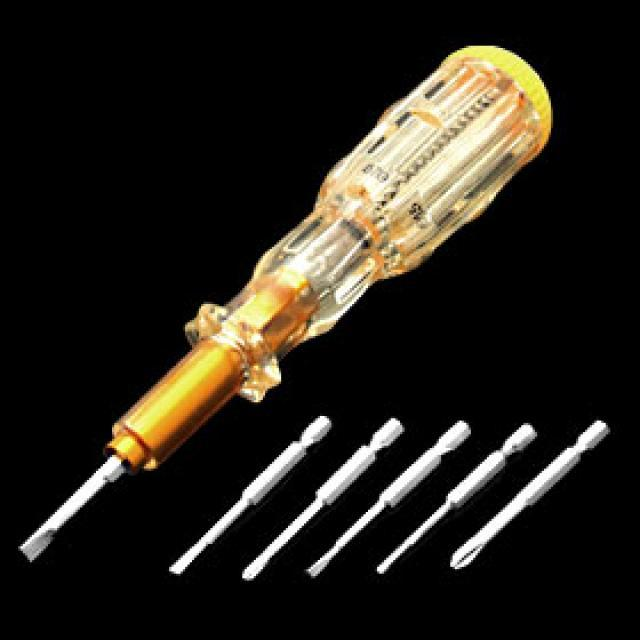screwdriver: (11, 27, 554, 566)
